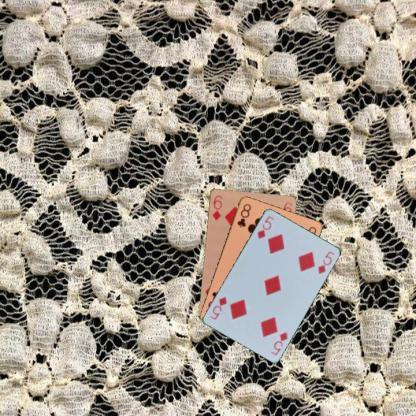5d: (268, 328, 290, 356), (255, 213, 275, 240)
6d: (209, 192, 224, 222)
8c: (234, 201, 252, 229)
